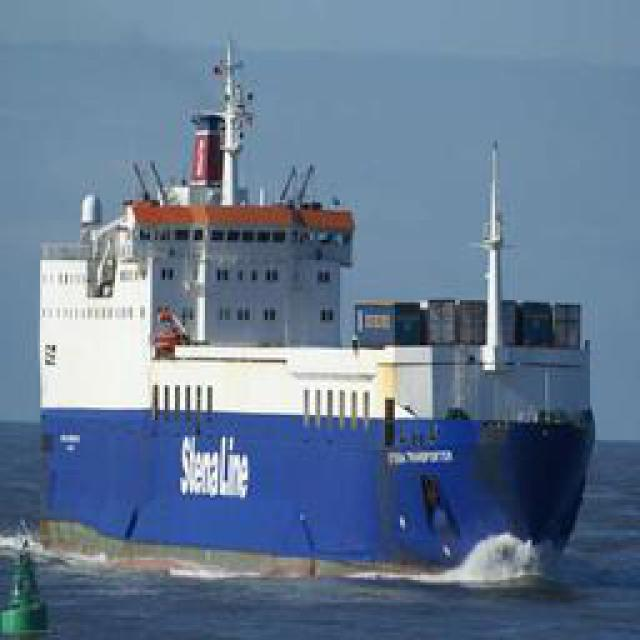Ship: (16, 19, 596, 594)
